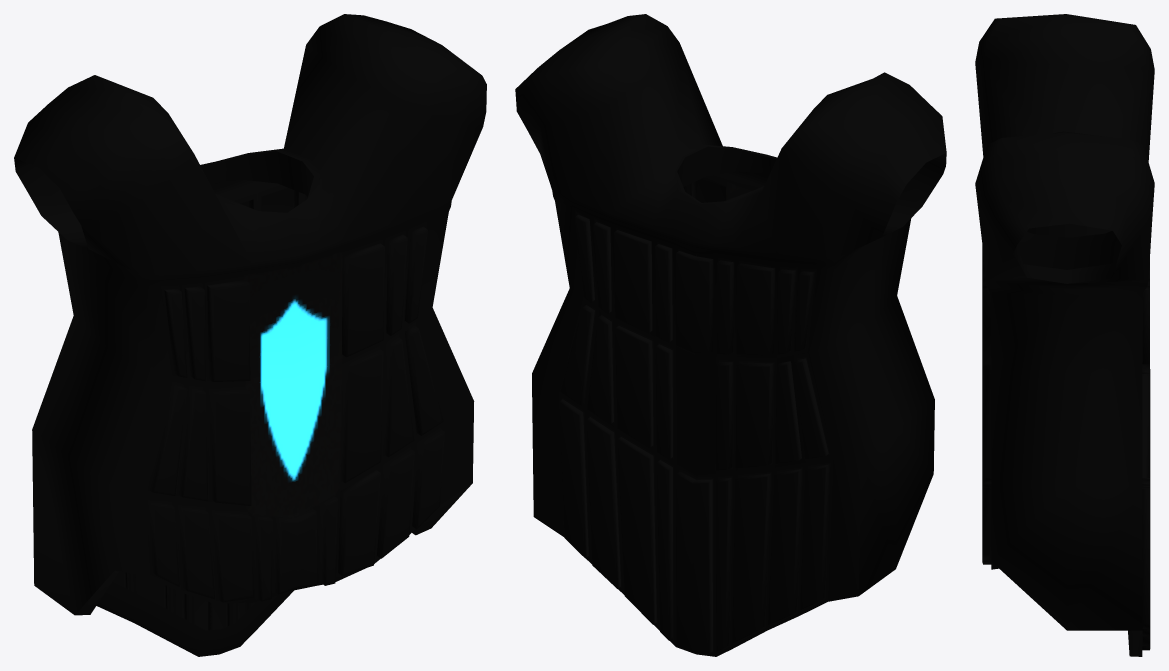
Rendered from BLACK CHEST ARMOR.fbx.
3 views of the same model, side by side, from view 1: azimuth 30°, elevation 25°; view 2: azimuth 150°, elevation 25°; view 3: azimuth 270°, elevation 25° (orthographic). The views are drawn at different scales.
Visible parts, largest first — view 1: CHEST ARMOR 1; view 2: CHEST ARMOR 1; view 3: CHEST ARMOR 1.
Boxes of the visible parts, x1,y1,x2,y2 form: CHEST ARMOR 1: (14, 14, 486, 656); CHEST ARMOR 1: (515, 14, 946, 656); CHEST ARMOR 1: (975, 14, 1154, 656).
Size of the model in its own units: 380 by 525 by 148.
